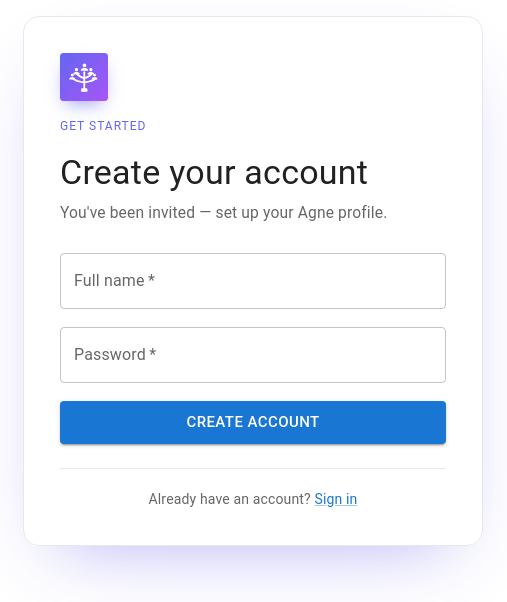
Scenario: Register page (invitation-only) › registers with the token + name + password (no email field) and shows the confirmation
This screenshot has width=507, height=602.
Step 1. Type "Ada" into the field labelled "Full name" → [253, 281], box left=60, top=253, right=446, bottom=309
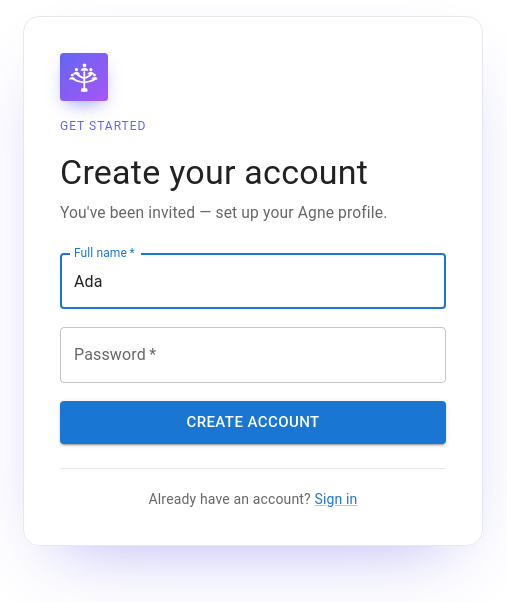
Step 2. Type "secret123" into the password field labelled "Password" → [253, 355], box left=60, top=327, right=446, bottom=383
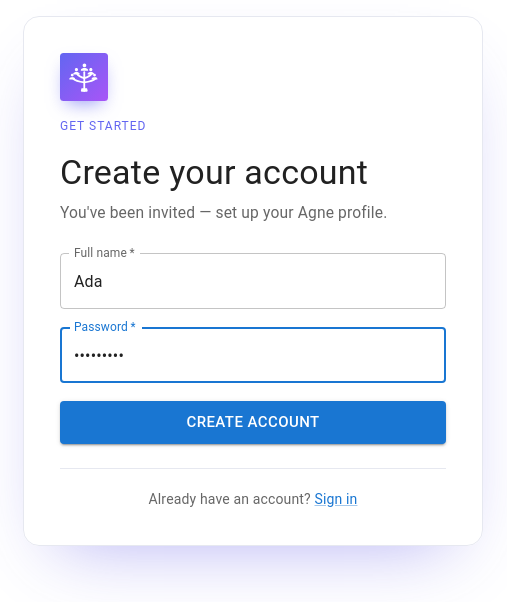
Step 3. Click the button "Create account" → [253, 423], box left=60, top=401, right=446, bottom=444
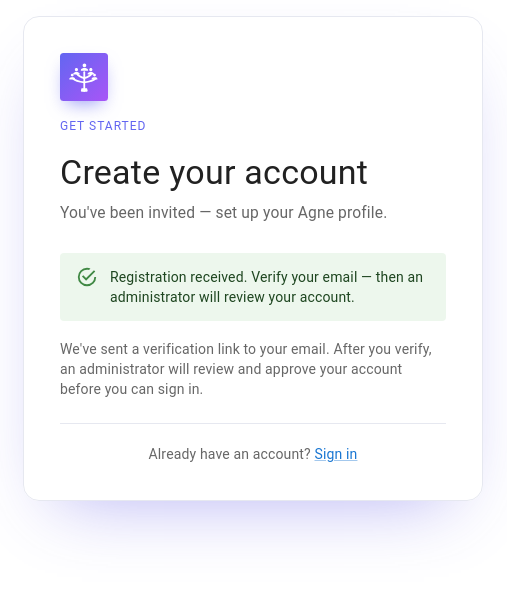
Check: the text "an administrator will review your account" is shown, box left=110, top=269, right=423, bottom=305
Check: the label labelled "Full name" is gone
